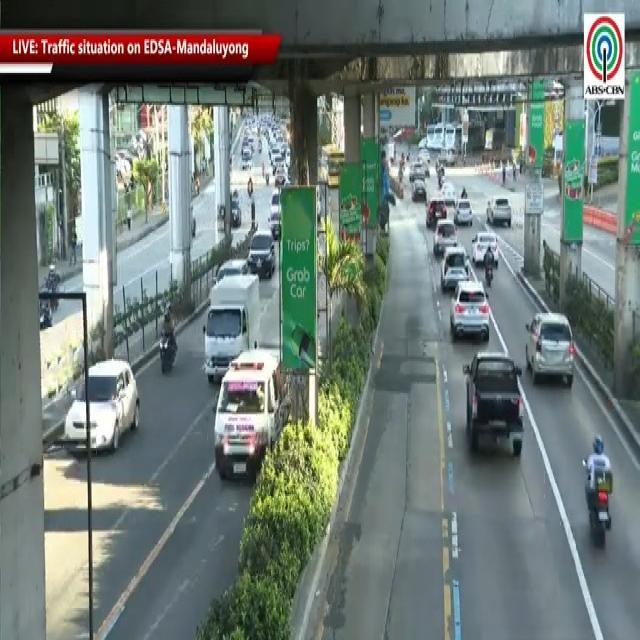car: (60, 352, 143, 466), (463, 351, 526, 454), (527, 311, 578, 395), (450, 275, 491, 345), (439, 249, 468, 291), (485, 190, 512, 230), (472, 228, 500, 263), (436, 220, 459, 262)
motorbike: (583, 432, 613, 555), (156, 302, 179, 378), (43, 262, 61, 318), (483, 244, 494, 289)
truck: (202, 272, 260, 382)
